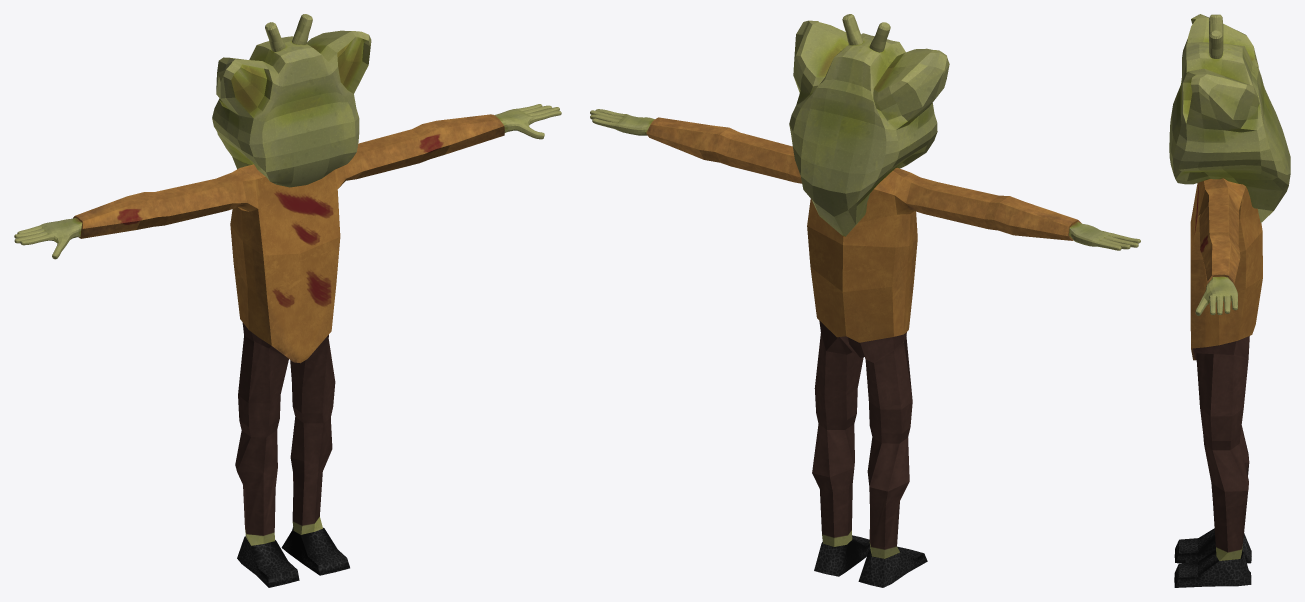
Rendered from Ciego_enemy.glb.
The picture shows the model from 3 angles, left to right: view 1: azimuth 30°, elevation 25°; view 2: azimuth 150°, elevation 25°; view 3: azimuth 270°, elevation 25°; orthographic projection.
Parts seen in each view (by area): view 1: blind_enemy; view 2: blind_enemy; view 3: blind_enemy.
Boxes of the visible parts, x1,y1,x2,y2 form: blind_enemy: (14, 14, 561, 587); blind_enemy: (590, 14, 1140, 587); blind_enemy: (1169, 14, 1290, 587).
Bounding box in the file's own units: 35.46 × 33.95 × 6.84.
1 material, 1 textured.
